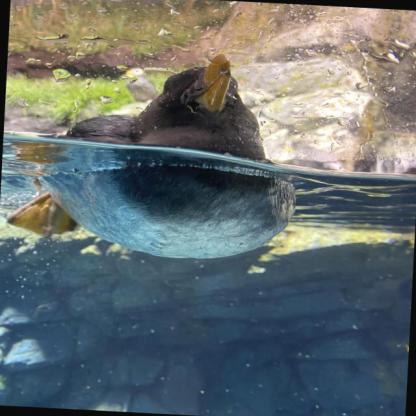puffin: (0, 40, 304, 278)
